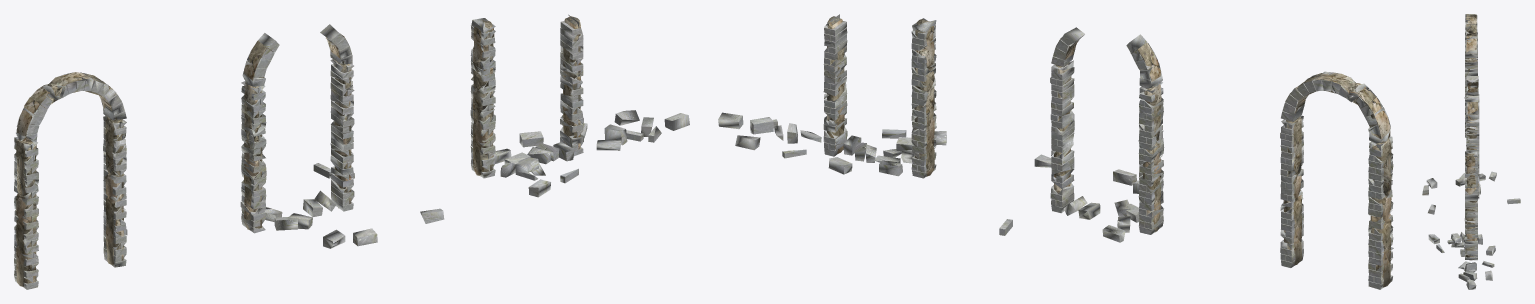
Rendered from arch-ruins.zfix-v14.lod0.glb.
The picture shows the model from 3 angles, left to right: view 1: azimuth 30°, elevation 25°; view 2: azimuth 150°, elevation 25°; view 3: azimuth 270°, elevation 25°; orthographic projection. The views are drawn at different scales.
Visible parts, largest first — view 1: Object_6, Object_5; view 2: Object_6, Object_5; view 3: Object_6, Object_5.
Part boxes in pixels (x1=…): Object_6: x1=14, y1=14, x2=689, y2=289; Object_5: x1=16, y1=16, x2=580, y2=286; Object_6: x1=718, y1=14, x2=1393, y2=289; Object_5: x1=827, y1=16, x2=1391, y2=287; Object_6: x1=1422, y1=14, x2=1520, y2=289; Object_5: x1=1465, y1=14, x2=1478, y2=260.
Bounding box in the file's own units: 17.49 × 4.94 × 4.07.
2 materials, 2 textured.
